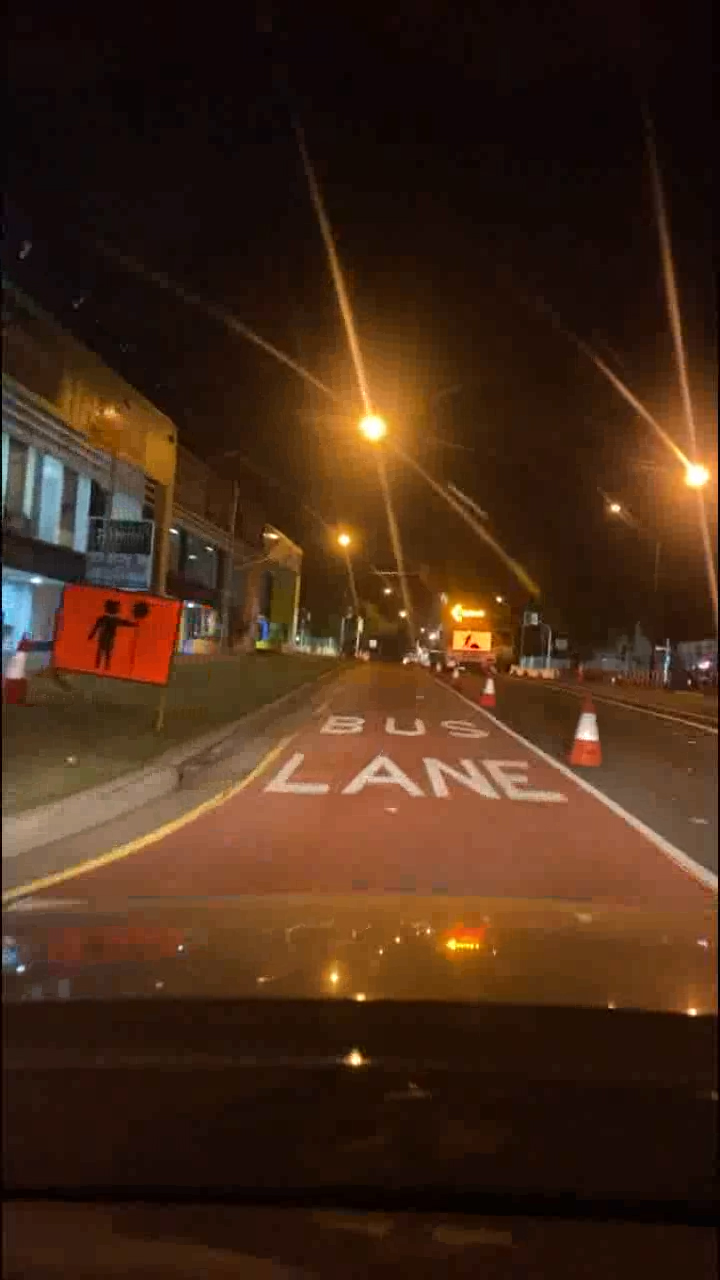prepare to stop board: (48, 582, 193, 690)
road cone: (566, 694, 612, 777), (462, 669, 502, 717)
truck: (416, 594, 527, 679)
